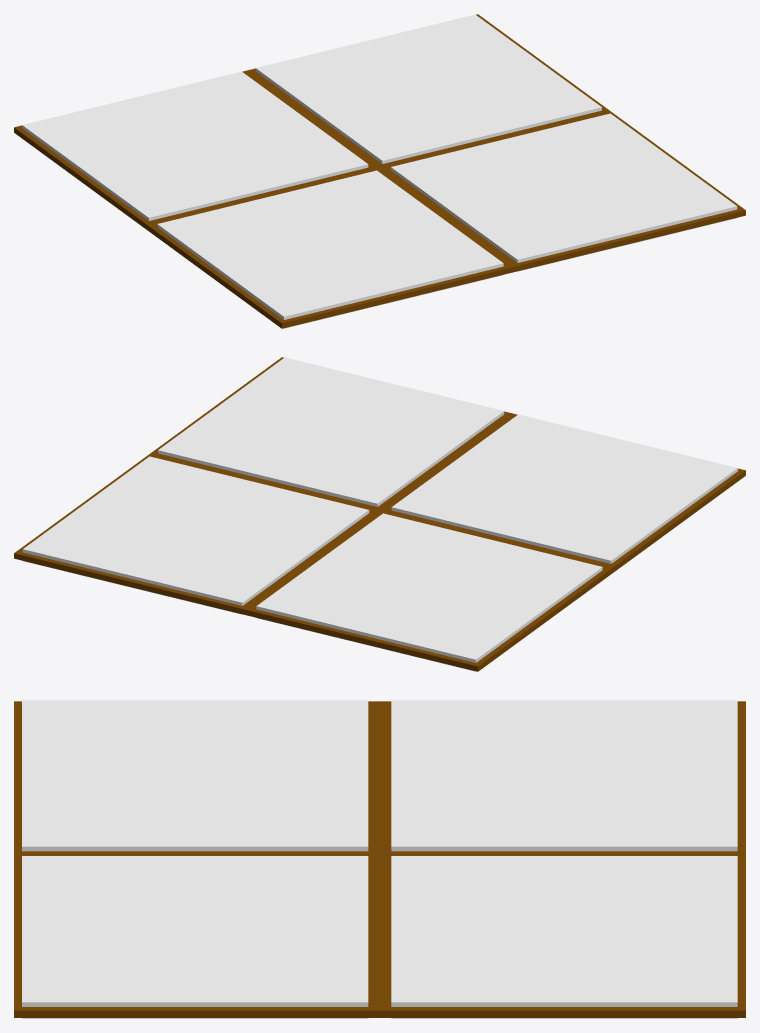
Rendered from floor_whole_piece.obj.
3 renders of one model, top to bottom at view 1: azimuth 30°, elevation 25°; view 2: azimuth 150°, elevation 25°; view 3: azimuth 270°, elevation 25°, orthographic. The views are drawn at different scales.
Parts seen in each view (by area): view 1: pCube7; view 2: pCube7; view 3: pCube7.
Boxes of the visible parts, x1=… form: pCube7: x1=14, y1=14, x2=745, y2=328; pCube7: x1=14, y1=357, x2=745, y2=671; pCube7: x1=14, y1=700, x2=745, y2=1018.
Bounding box in the file's own units: 56.45 × 1.39 × 56.46.
